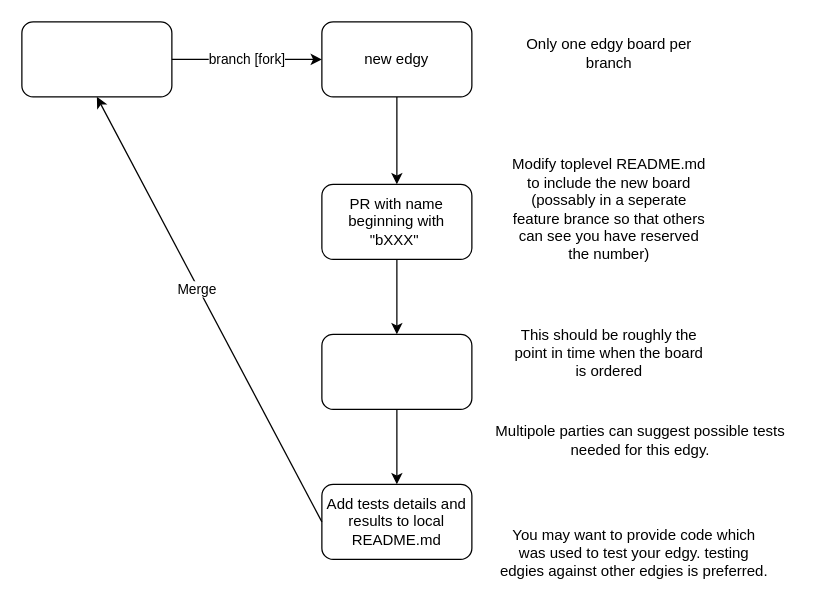
This 819x601 diagram has some shape labels left out. The shapes that lost their labels are listed below. From the top down, each one's centre as x and y in pixels, then its label:
At (96,59): "main".
At (396,371): "Tag eg. b001v0.1rc".
